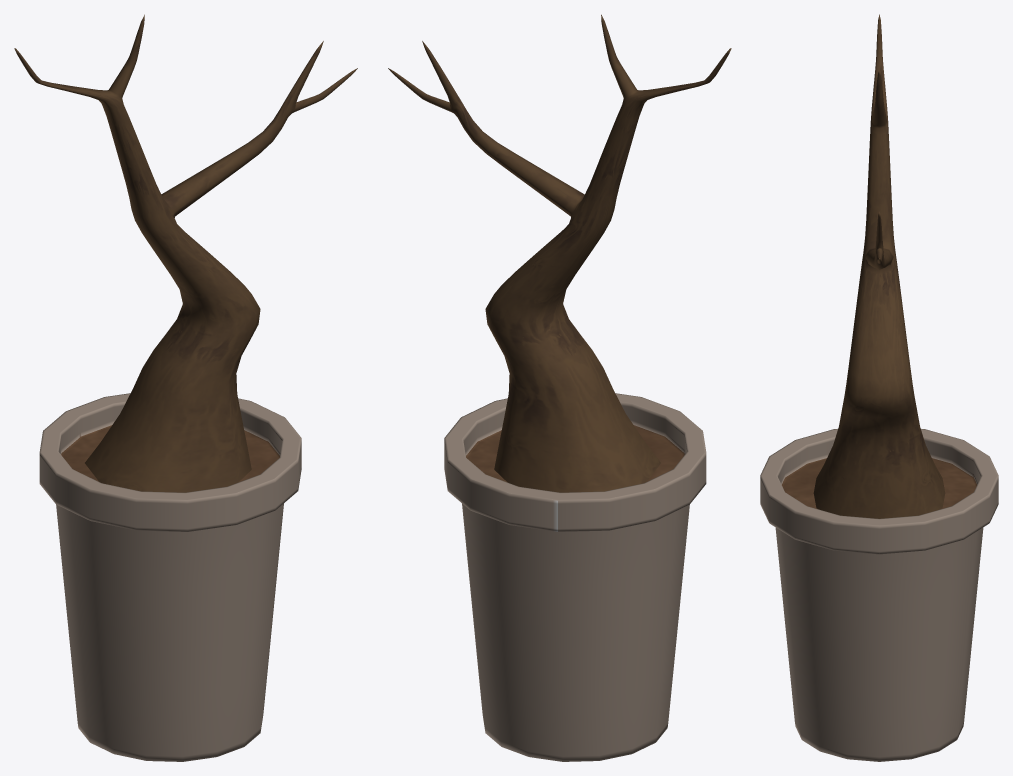
File: die_Flowerpot.fbx
The picture shows the model from 3 angles, left to right: view 1: azimuth 30°, elevation 25°; view 2: azimuth 150°, elevation 25°; view 3: azimuth 270°, elevation 25°; orthographic projection. The views are drawn at different scales.
Parts seen in each view (by area): view 1: Cylinder.149, Cube.119; view 2: Cylinder.149, Cube.119; view 3: Cylinder.149, Cube.119.
Boxes of the visible parts, x1=… form: Cylinder.149: x1=39, y1=393, x2=301, y2=761; Cube.119: x1=14, y1=14, x2=357, y2=492; Cylinder.149: x1=444, y1=393, x2=706, y2=761; Cube.119: x1=388, y1=14, x2=731, y2=492; Cylinder.149: x1=760, y1=429, x2=998, y2=761; Cube.119: x1=813, y1=14, x2=945, y2=518.
Size of the model in its own units: 74.69 by 148 by 49.67.
1 material, 1 textured.
